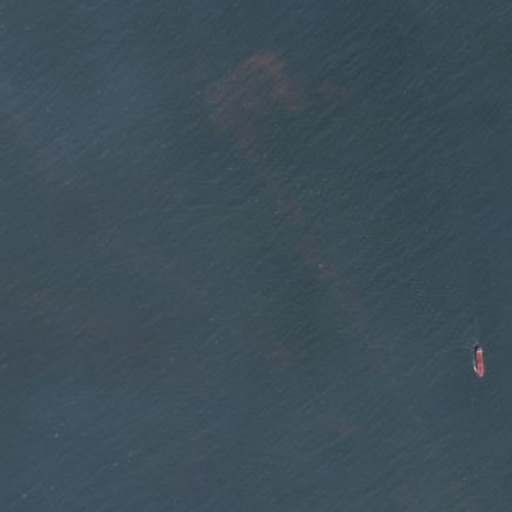ship: (470, 337, 487, 381)
